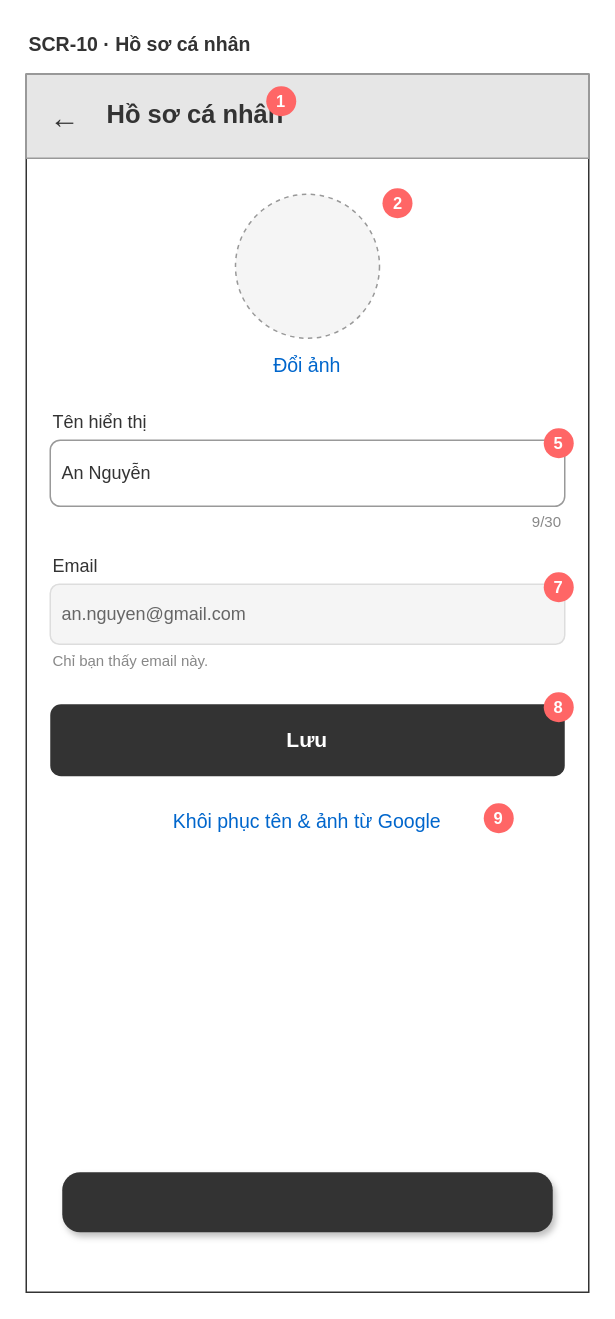
This 615x1319 diagram has some shape labels left out. Each missing label, with the centre of its shape:
Đã lưu hồ sơ: pixel 308 1204
Ảnh đại diện: pixel 307 265
